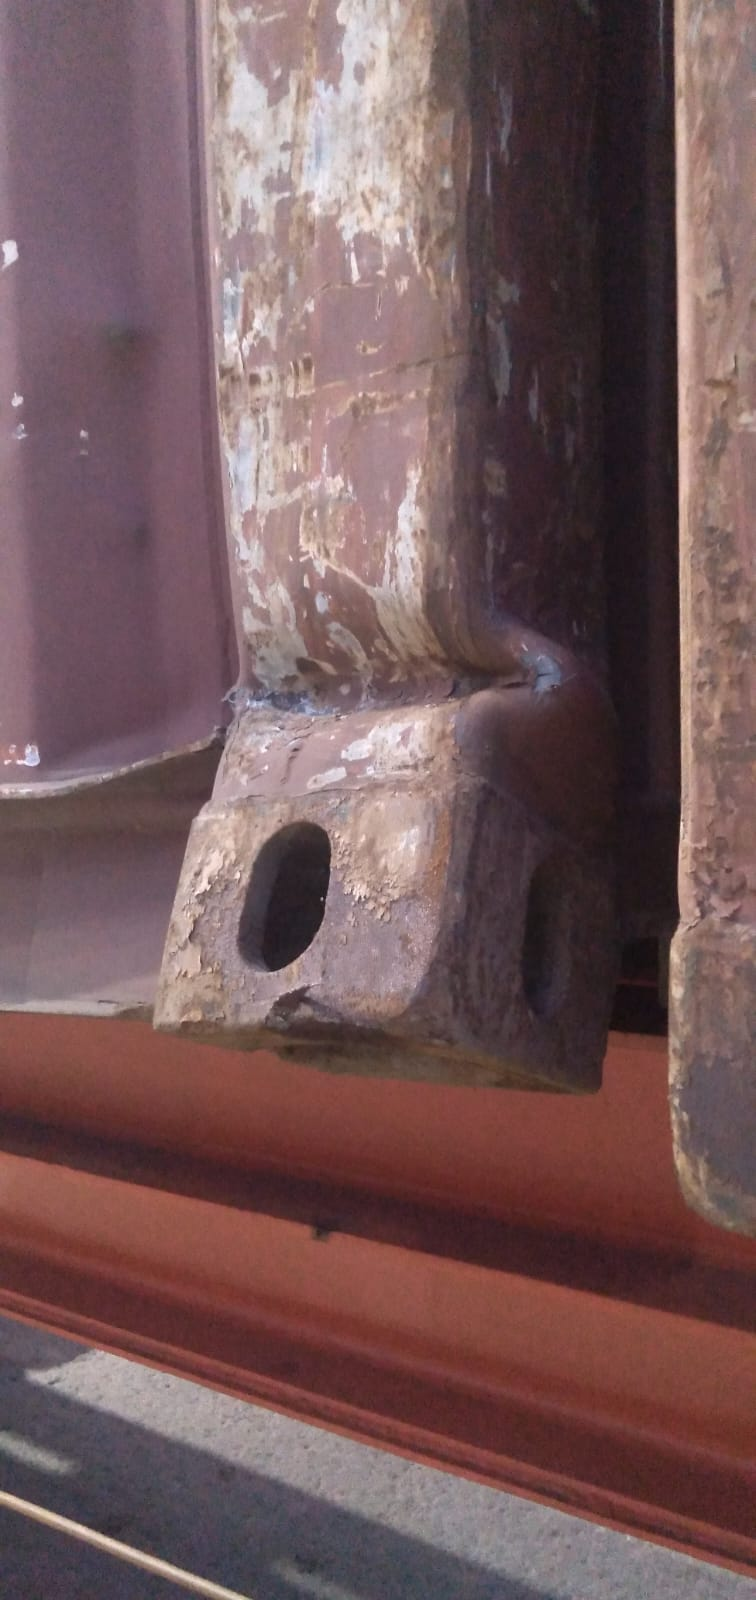moderate: (189, 455, 595, 828)
